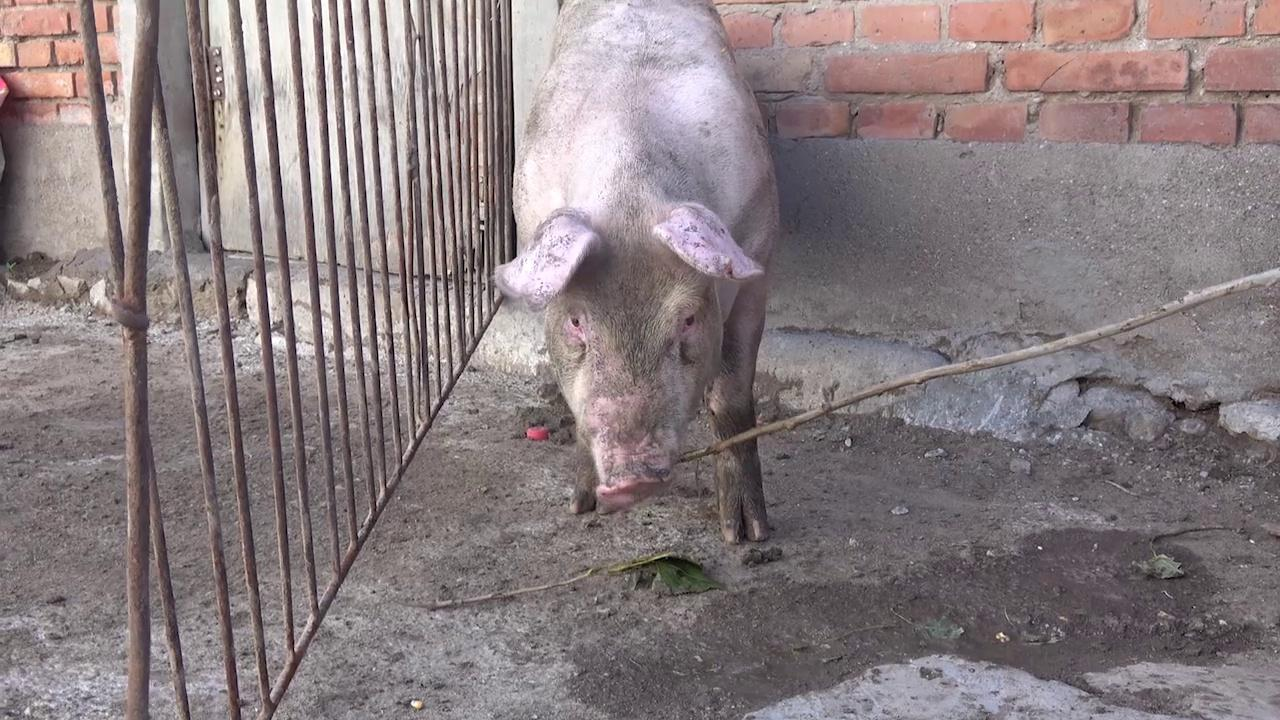Face: (477, 203, 771, 519)
